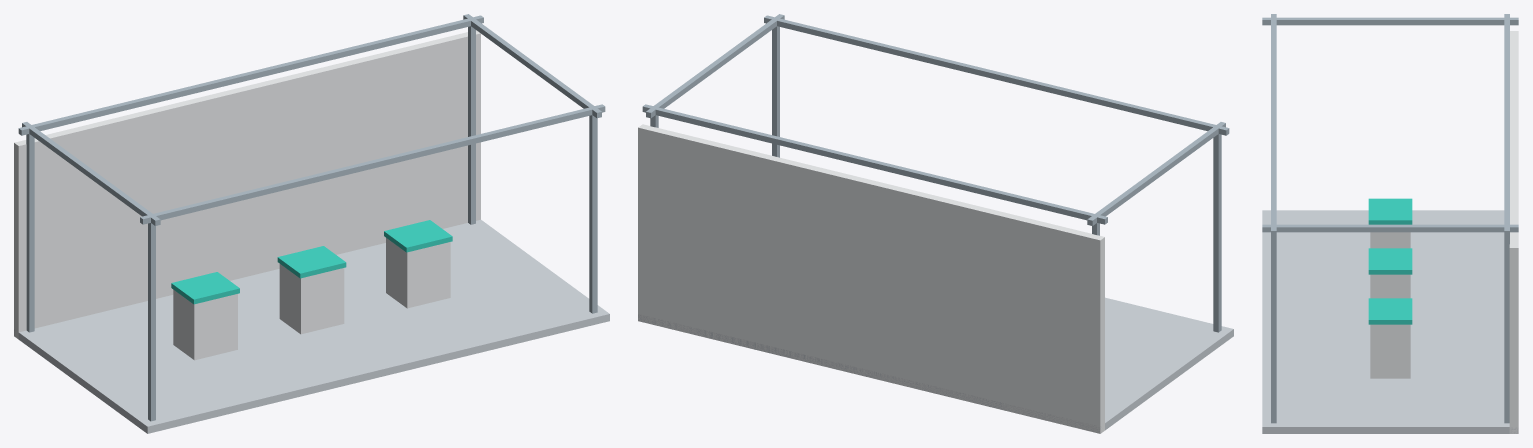
3 renders of one model, left to right at view 1: azimuth 30°, elevation 25°; view 2: azimuth 150°, elevation 25°; view 3: azimuth 270°, elevation 25°, orthographic. The views are drawn at different scales.
Parts seen in each view (by area): view 1: Exhibition Booth Concept; view 2: Exhibition Booth Concept; view 3: Exhibition Booth Concept.
Boxes of the visible parts, x1,y1,x2,y2 form: Exhibition Booth Concept: (14, 14, 609, 433); Exhibition Booth Concept: (638, 14, 1233, 433); Exhibition Booth Concept: (1262, 14, 1518, 433).
Size of the model in its own units: 8 by 3.49 by 4.
